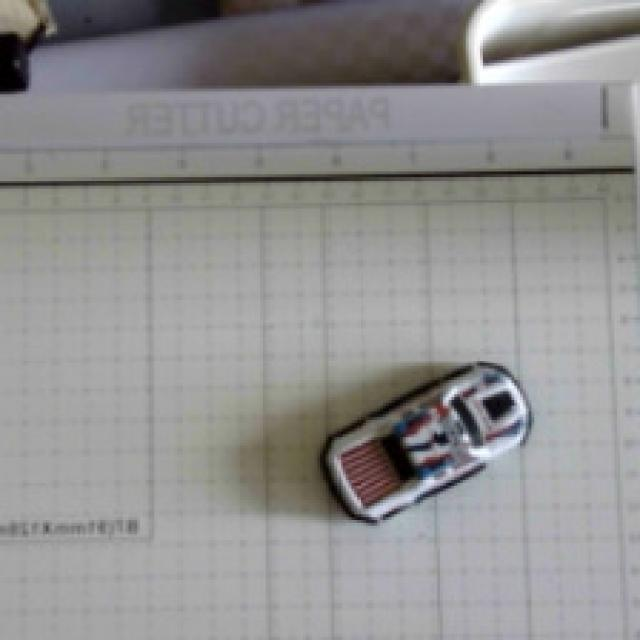Grey Car: (312, 330, 557, 570)
